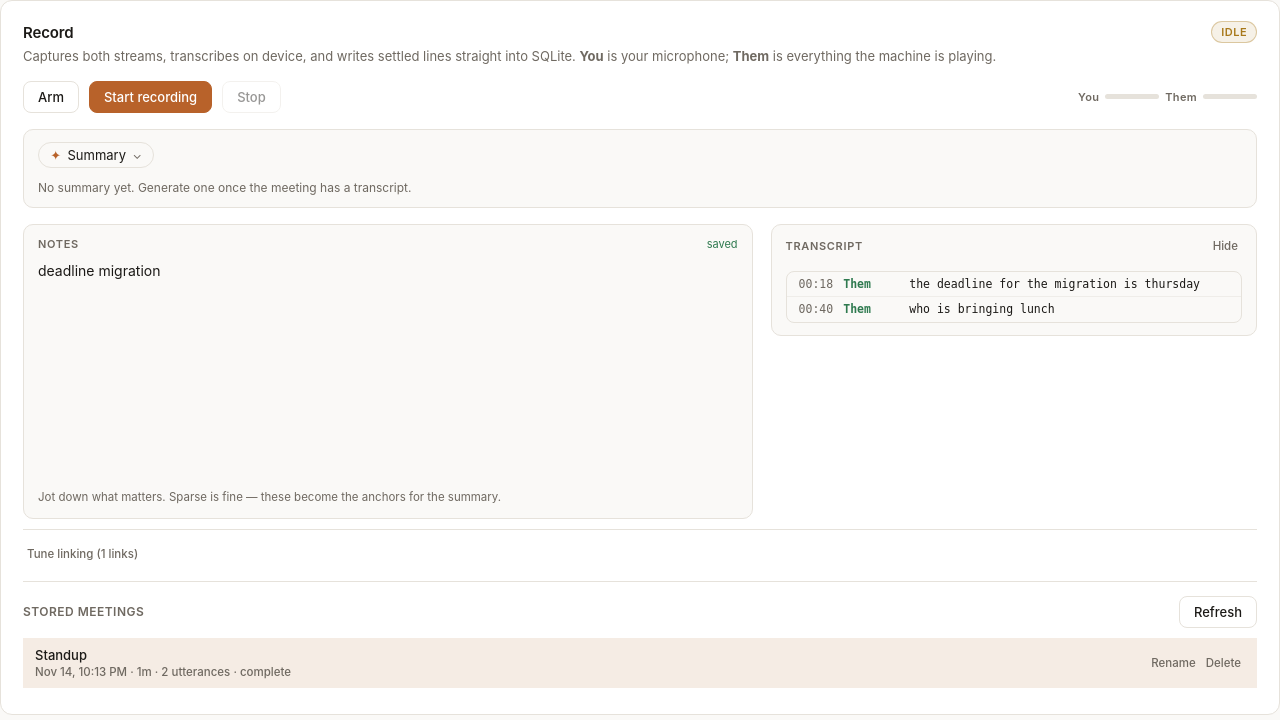
RecordCard linking (G18) › shows how many links there are and by which method
Click the button "Tune linking (1 links)" at (83, 554), box [23,545,142,563]
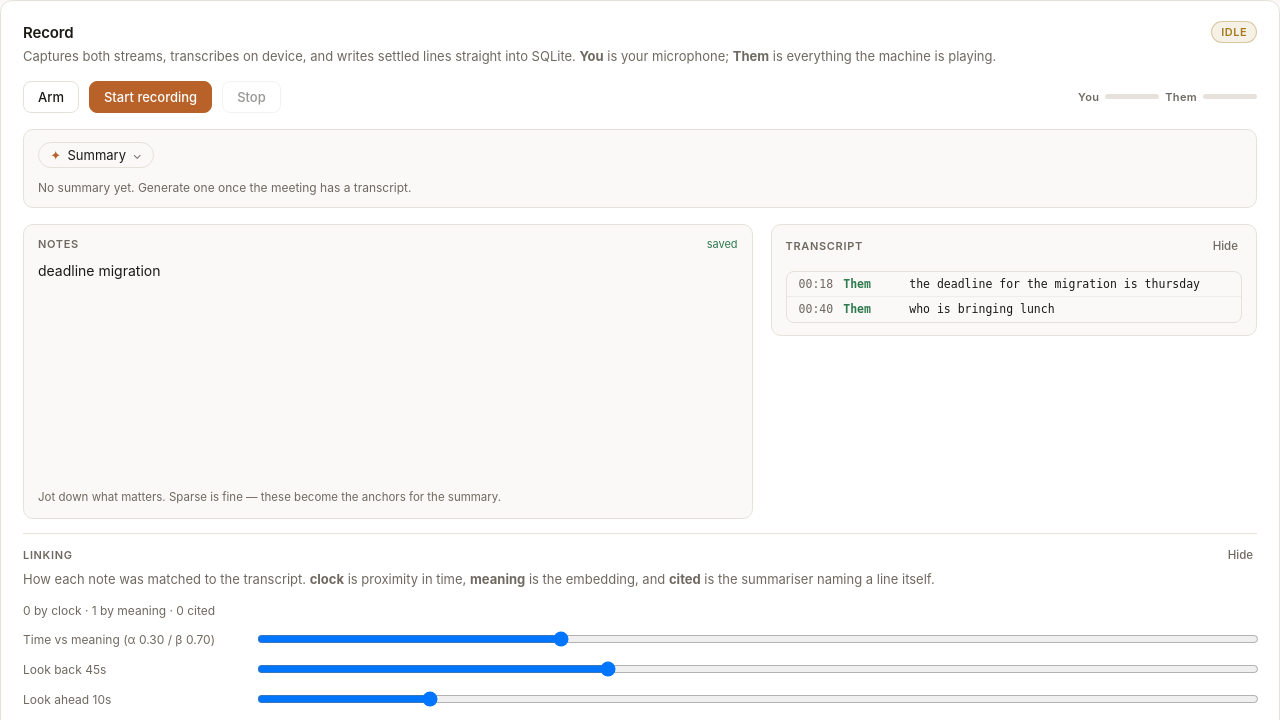
Now the text with test id "link-breakdown" shows "1 by meaning", box [23,603,215,618]
Now the text with test id "link-breakdown" shows "0 by clock", box [23,603,215,618]
